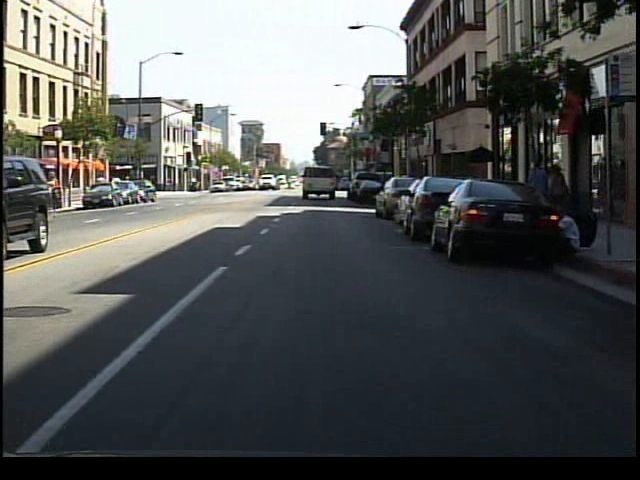person: (524, 151, 550, 227), (544, 158, 568, 224)
